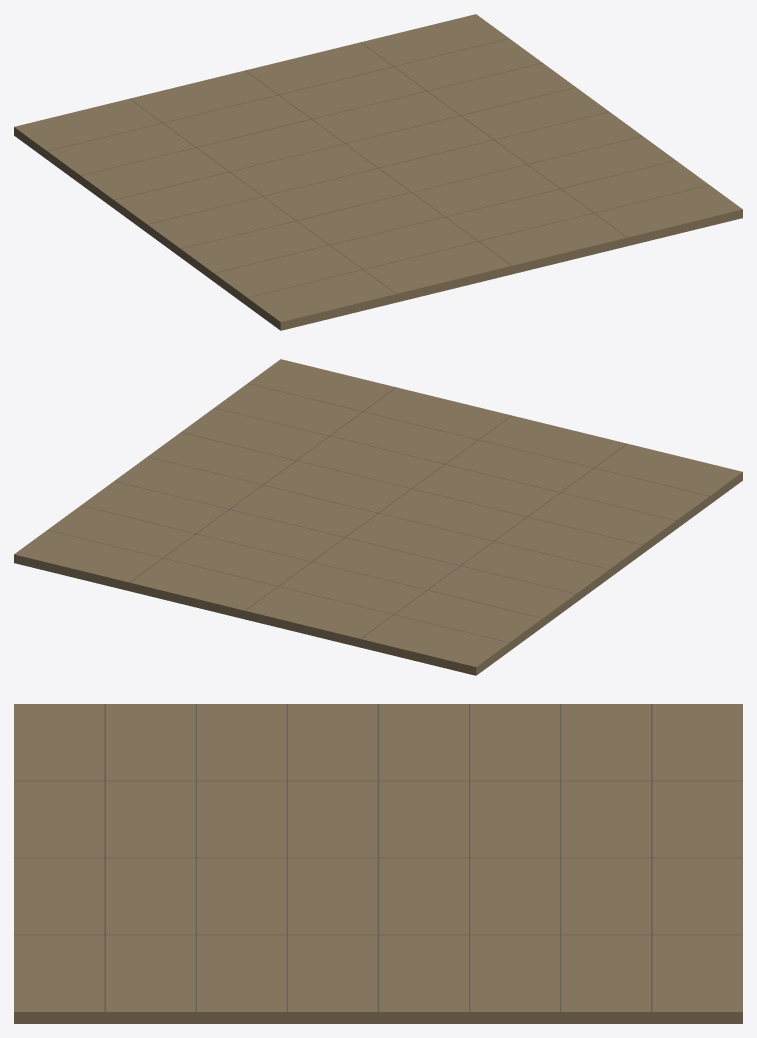
Rendered from Sidewalk.obj.
3 views of the same model, one above another, from view 1: azimuth 30°, elevation 25°; view 2: azimuth 150°, elevation 25°; view 3: azimuth 270°, elevation 25° (orthographic). The views are drawn at different scales.
Visible parts, largest first — view 1: Sidewalk; view 2: Sidewalk; view 3: Sidewalk.
Boxes of the visible parts, bbox=[...] form: Sidewalk: bbox=[14, 14, 742, 330]; Sidewalk: bbox=[14, 359, 742, 675]; Sidewalk: bbox=[14, 704, 742, 1023].
Size of the model in its own units: 1 by 0.018 by 1.
